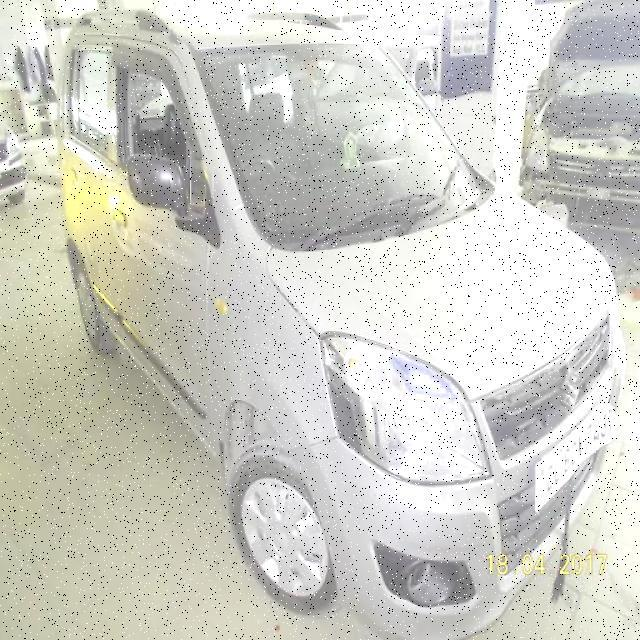car damage: (566, 260, 607, 322)
